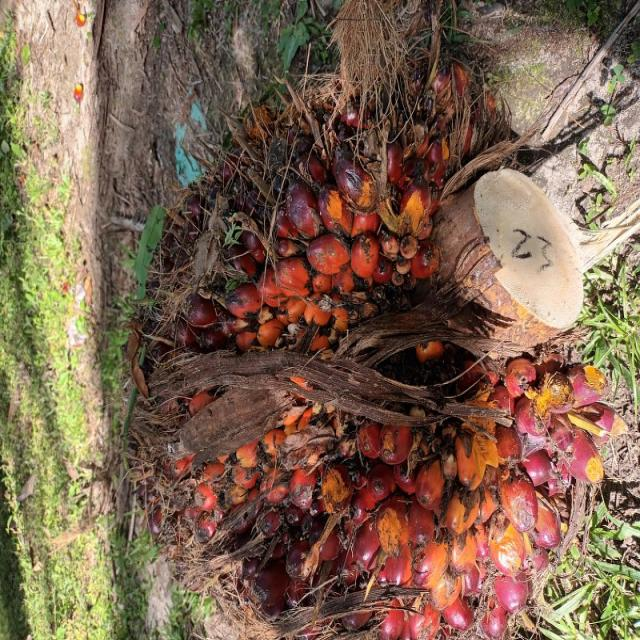fraksi 1: (0, 100, 398, 639)
